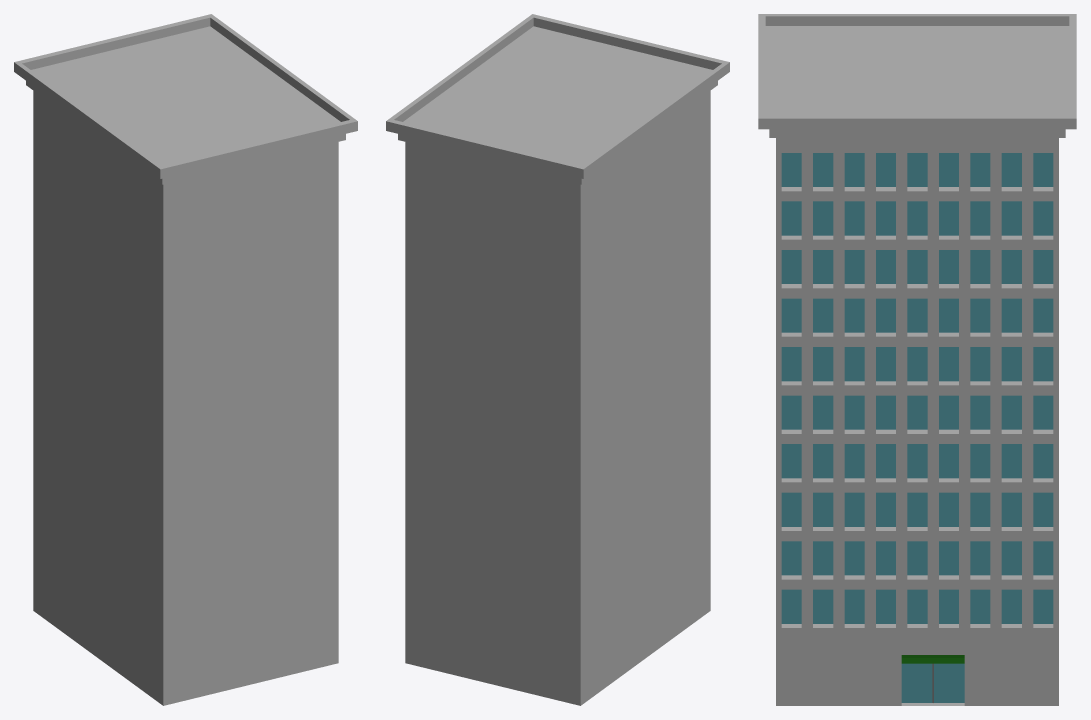
Rendered from building_9.fbx.
The picture shows the model from 3 angles, left to right: view 1: azimuth 30°, elevation 25°; view 2: azimuth 150°, elevation 25°; view 3: azimuth 270°, elevation 25°; orthographic projection. The views are drawn at different scales.
Visible parts, largest first — view 1: Building3; view 2: Building3; view 3: Building3.
Boxes of the visible parts, bbox=[...] form: Building3: bbox=[14, 14, 357, 705]; Building3: bbox=[386, 14, 729, 705]; Building3: bbox=[758, 14, 1076, 705].
Size of the model in its own units: 578 by 1525 by 742.
